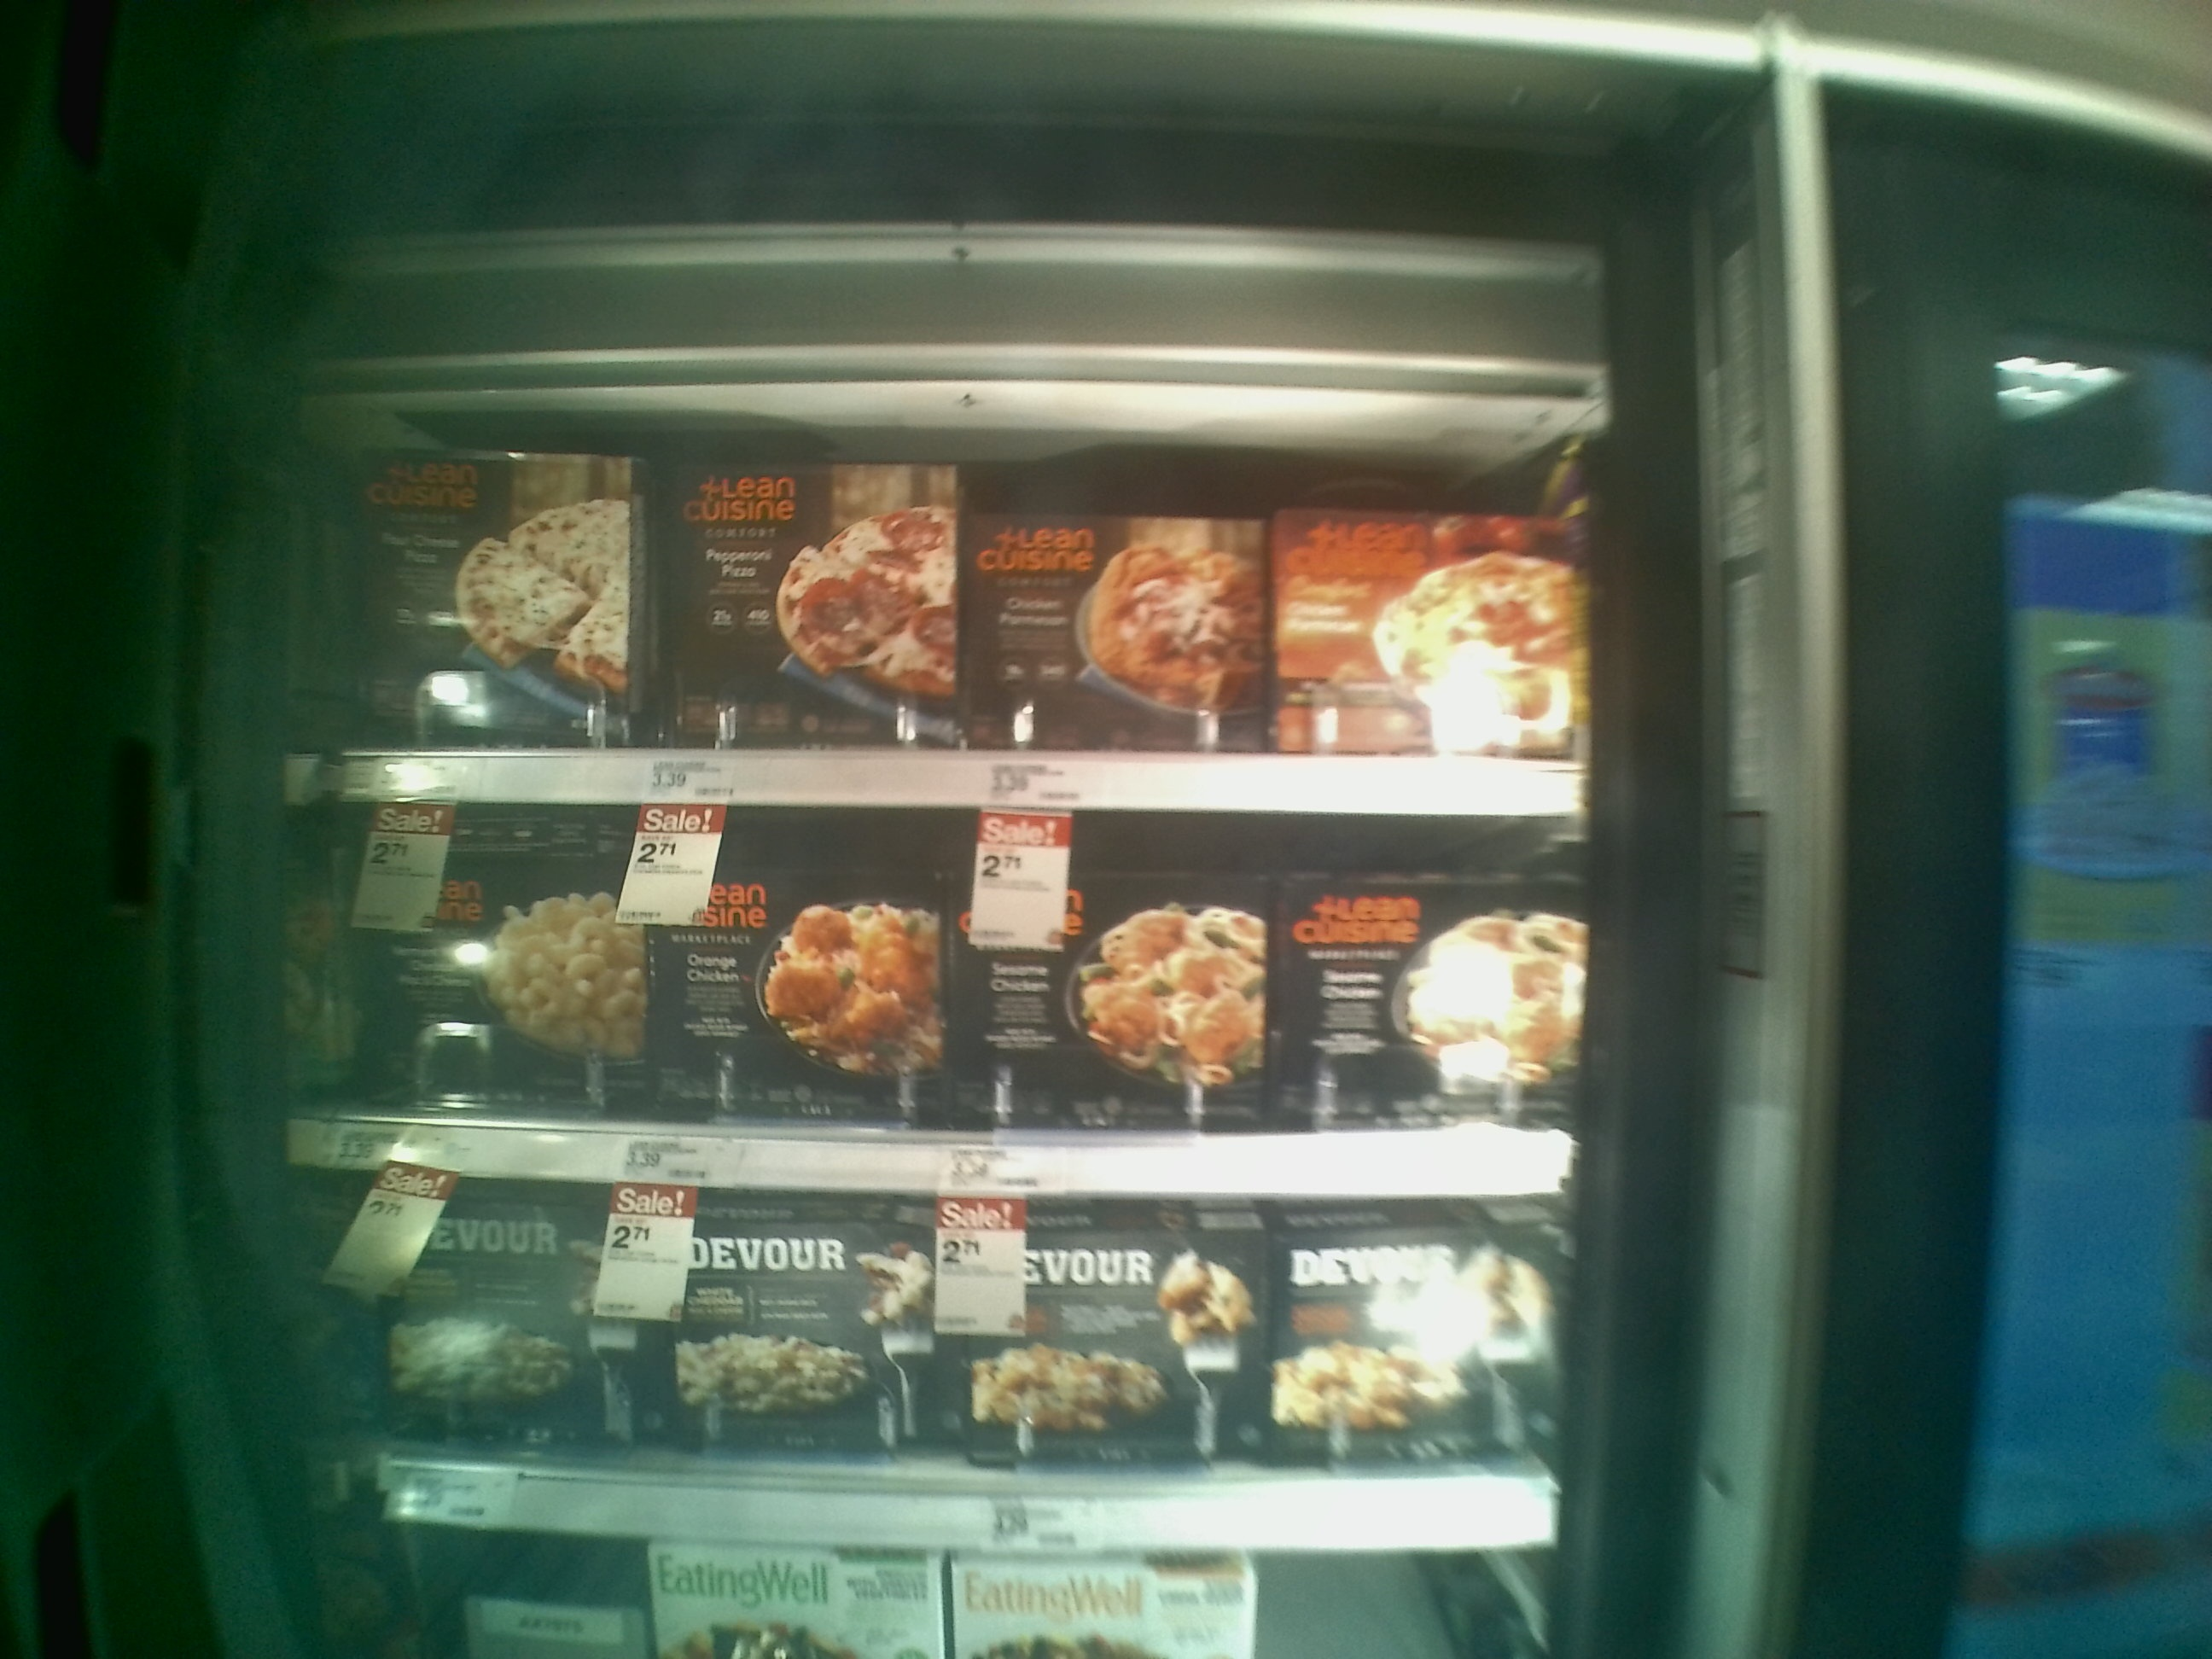shelf: (291, 242, 1576, 814), (294, 788, 1578, 1185), (298, 1173, 1571, 1544)
